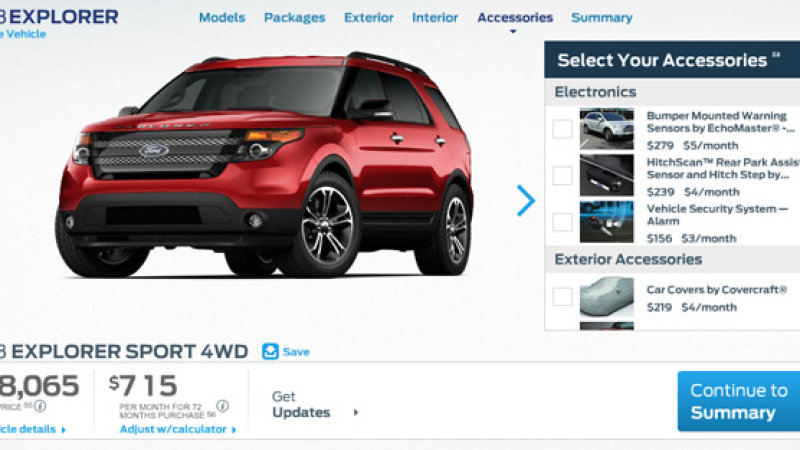Ford Explorer: (55, 50, 474, 280)
